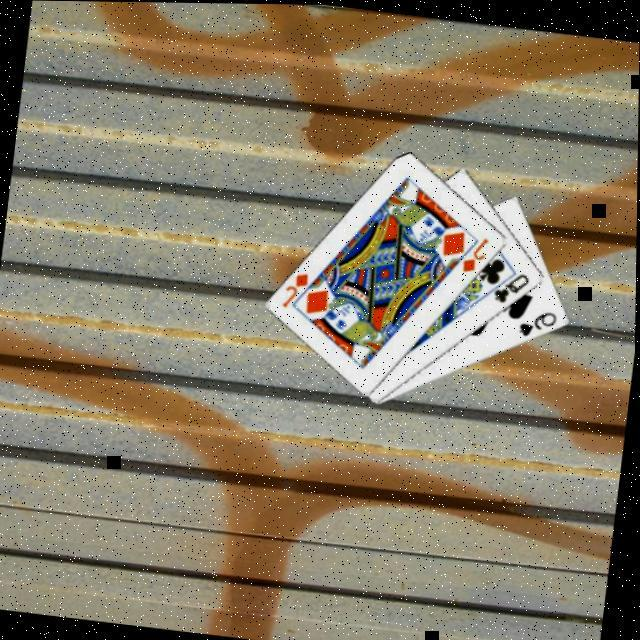9S: (518, 304, 563, 342)
JD: (280, 268, 315, 312), (461, 232, 495, 277)
QC: (491, 266, 535, 309)
